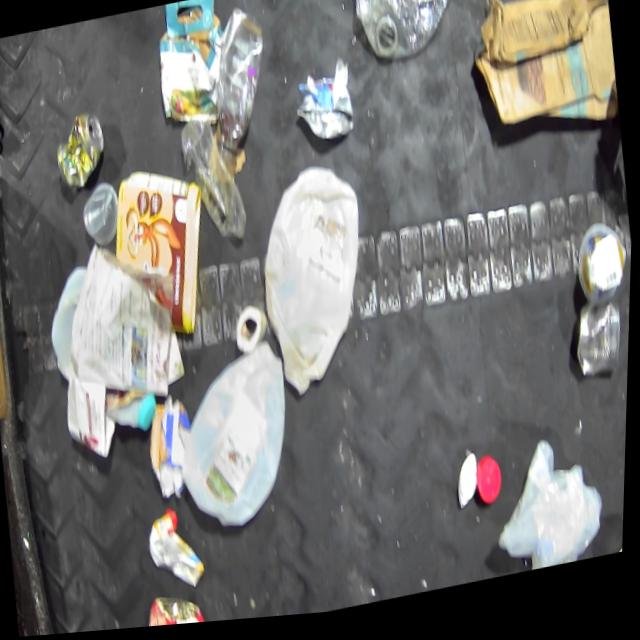can: (291, 71, 357, 153), (51, 108, 110, 194), (571, 306, 628, 390), (147, 590, 210, 630), (615, 543, 626, 564)
milk_jug: (249, 160, 382, 406), (166, 340, 304, 542), (40, 252, 163, 450)
non_white_jug: (104, 159, 219, 350)
plastic_bottle: (175, 111, 253, 253), (348, 0, 469, 73)
